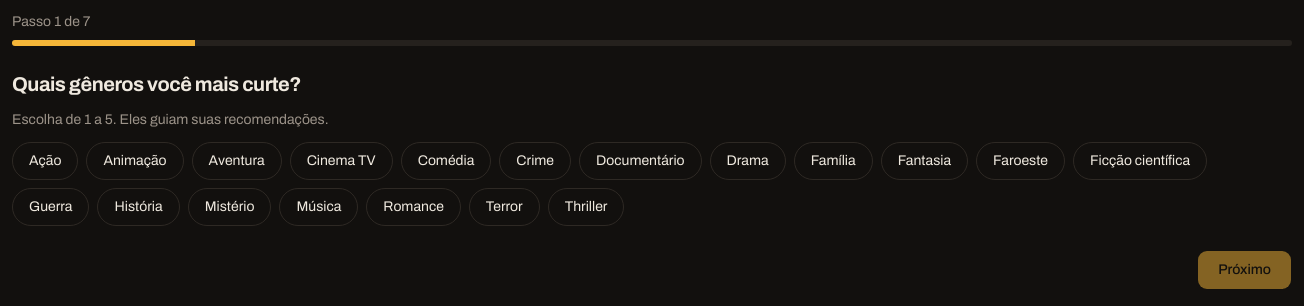
Test: OnboardingWizard › trava os outros gêneros ao chegar em 5 e avisa o limite
Click the button "Ação": (45, 161) left=12, top=142, right=78, bottom=180
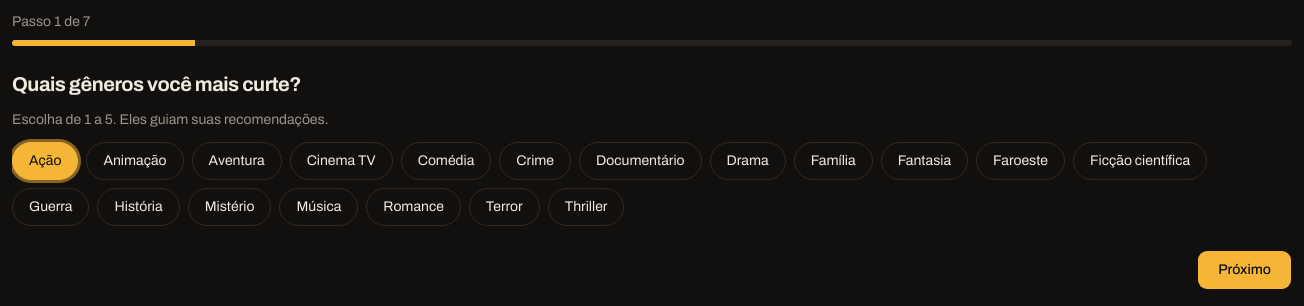
Click the button "Drama": (748, 161) left=710, top=142, right=786, bottom=180
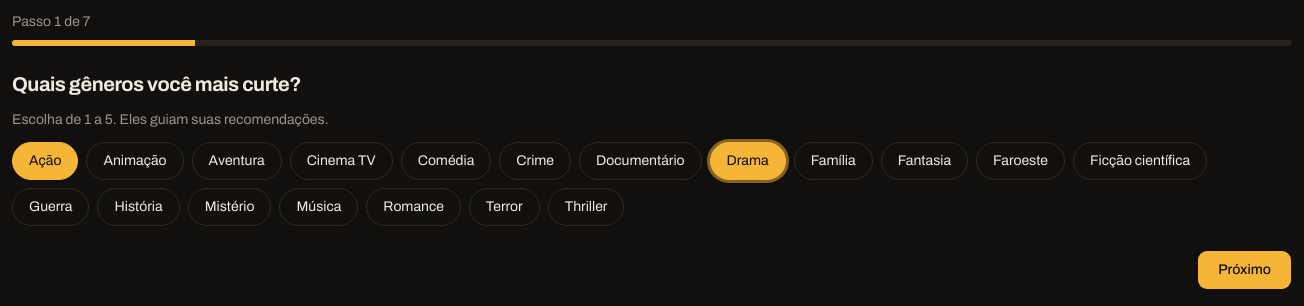
Click the button "Comédia": (446, 161) left=401, top=142, right=491, bottom=180
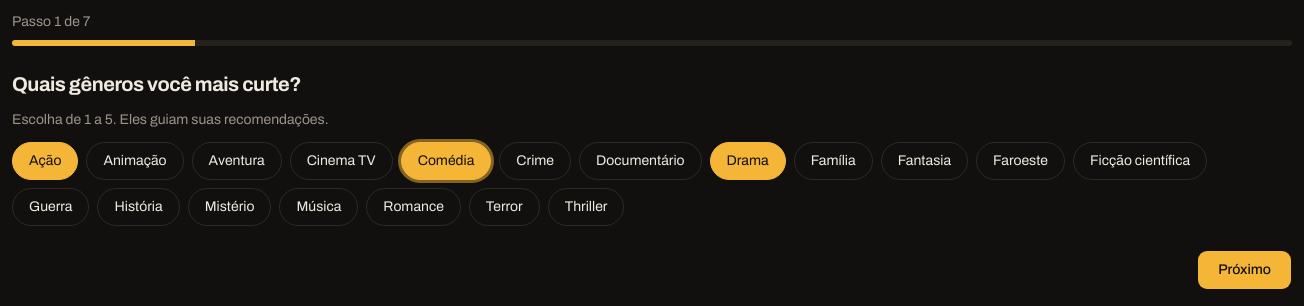
Click the button "Terror": (504, 207) left=469, top=188, right=540, bottom=226
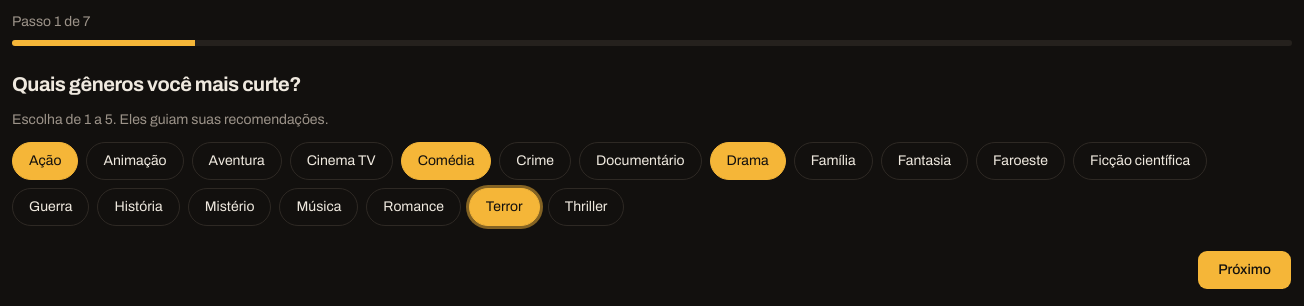
Click the button "Thriller": (586, 207) left=548, top=188, right=624, bottom=226
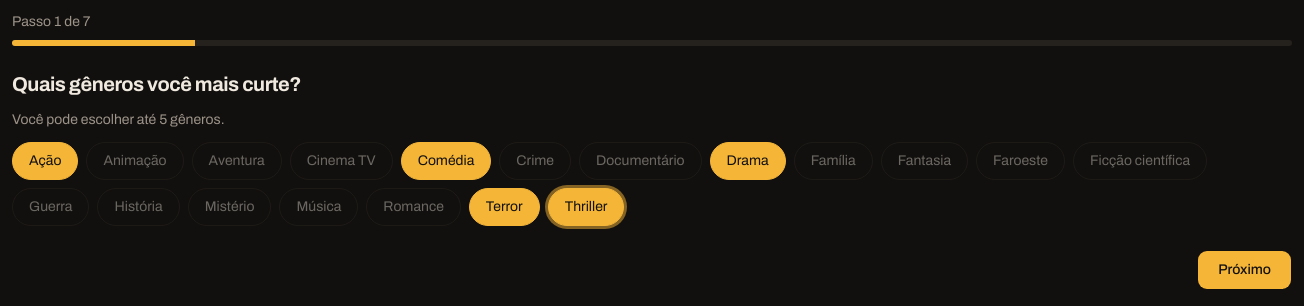
Expected: the button "Romance" is disabled, left=366, top=188, right=461, bottom=226
Expected: the text "Você pode escolher até 5 gêneros." is shown, left=12, top=112, right=225, bottom=127
Click the button "Ação": (45, 161) left=12, top=142, right=78, bottom=180
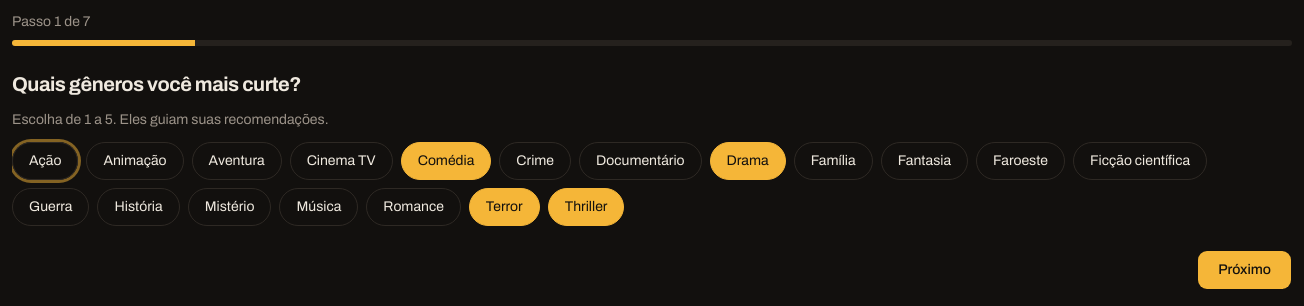
Expected: the button "Romance" is enabled, left=366, top=188, right=461, bottom=226
